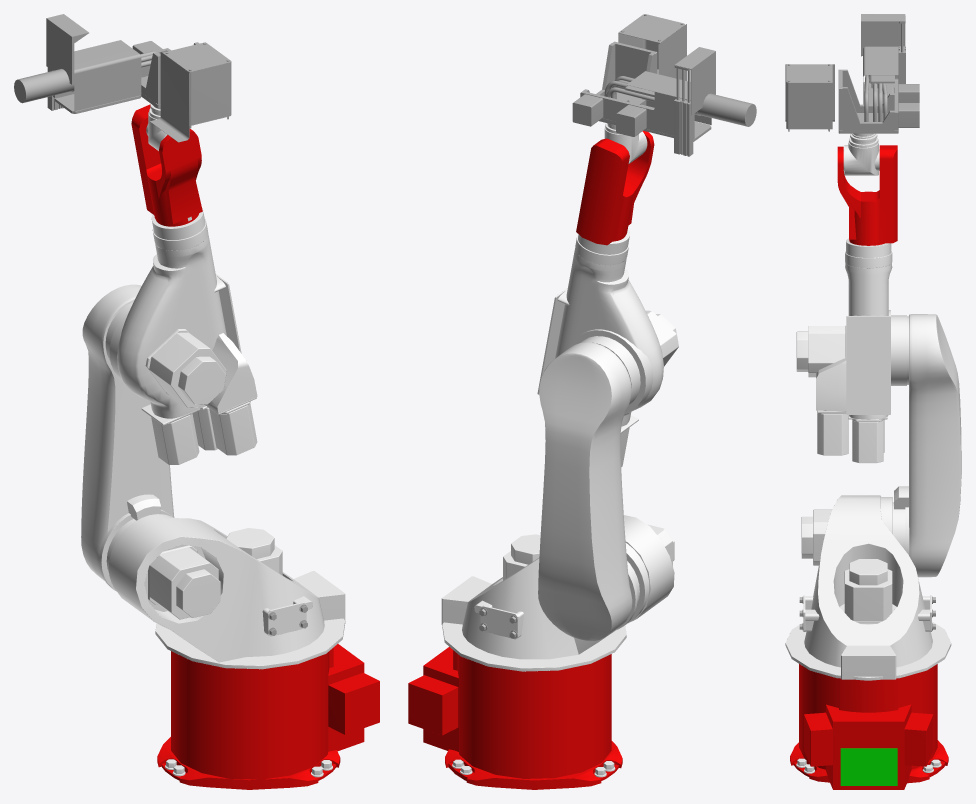
Rendered from RobotV2.fbx.
The picture shows the model from 3 angles, left to right: view 1: azimuth 30°, elevation 25°; view 2: azimuth 150°, elevation 25°; view 3: azimuth 270°, elevation 25°; orthographic projection. The views are drawn at different scales.
Visible parts, largest first — view 1: Arm_1, Arm_2, Arm_4.001, Arm_3.001, Arm_7.001, Arm_7, Arm_4, Arm_3, Arm_4_metal.001, Arm2_metal, Arm_4_metal, Arm_5 (+1 smaller); view 2: Arm_1, Arm_3.001, Arm_3, Arm_2, Arm_7.001, Arm_4.001, Arm_4, Arm_5.001, Arm_5, Arm2_metal, Arm_4_metal.001, Arm_7_code.001 (+2 smaller); view 3: Arm_2, Arm_1, Arm_3, Arm_4, Arm_7, Arm_4_metal, Arm2_metal, Arm_7.001, Arm_5, Arm_6, Arm_5.001, Arm_7_code (+4 smaller).
Part boxes in pixels (box(x1,y1,x2,y2)): Arm_1: box(157, 644, 379, 789); Arm_2: box(106, 514, 345, 669); Arm_4.001: box(105, 209, 253, 418); Arm_3.001: box(81, 285, 173, 588); Arm_7.001: box(14, 14, 230, 142); Arm_7: box(20, 14, 231, 142); Arm_4: box(129, 208, 257, 417); Arm_3: box(99, 284, 174, 591); Arm_4_metal.001: box(141, 329, 257, 464); Arm2_metal: box(148, 528, 282, 619); Arm_4_metal: box(148, 329, 256, 464); Arm_5: box(134, 106, 202, 226); Arm_1: box(408, 647, 622, 789); Arm_3.001: box(538, 342, 637, 640); Arm_3: box(538, 342, 635, 641); Arm_2: box(441, 515, 674, 671); Arm_7.001: box(572, 14, 756, 156); Arm_4.001: box(538, 229, 663, 426); Arm_4: box(537, 230, 645, 413); Arm_5.001: box(582, 130, 654, 245); Arm_5: box(576, 138, 638, 244); Arm2_metal: box(503, 524, 674, 580); Arm_4_metal.001: box(620, 310, 678, 466); Arm_7_code.001: box(605, 68, 690, 102); Arm_2: box(785, 495, 951, 680); Arm_1: box(790, 664, 948, 789); Arm_3: box(894, 314, 961, 577); Arm_4: box(816, 239, 906, 419); Arm_7: box(785, 14, 919, 133); Arm_4_metal: box(796, 326, 887, 463); Arm2_metal: box(801, 509, 892, 623); Arm_7.001: box(785, 14, 919, 130); Arm_5: box(837, 145, 897, 245); Arm_6: box(843, 133, 879, 175); Arm_5.001: box(837, 145, 897, 227); Arm_7_code: box(864, 23, 902, 121).
Size of the model in its own units: 130 by 295 by 70.89.
